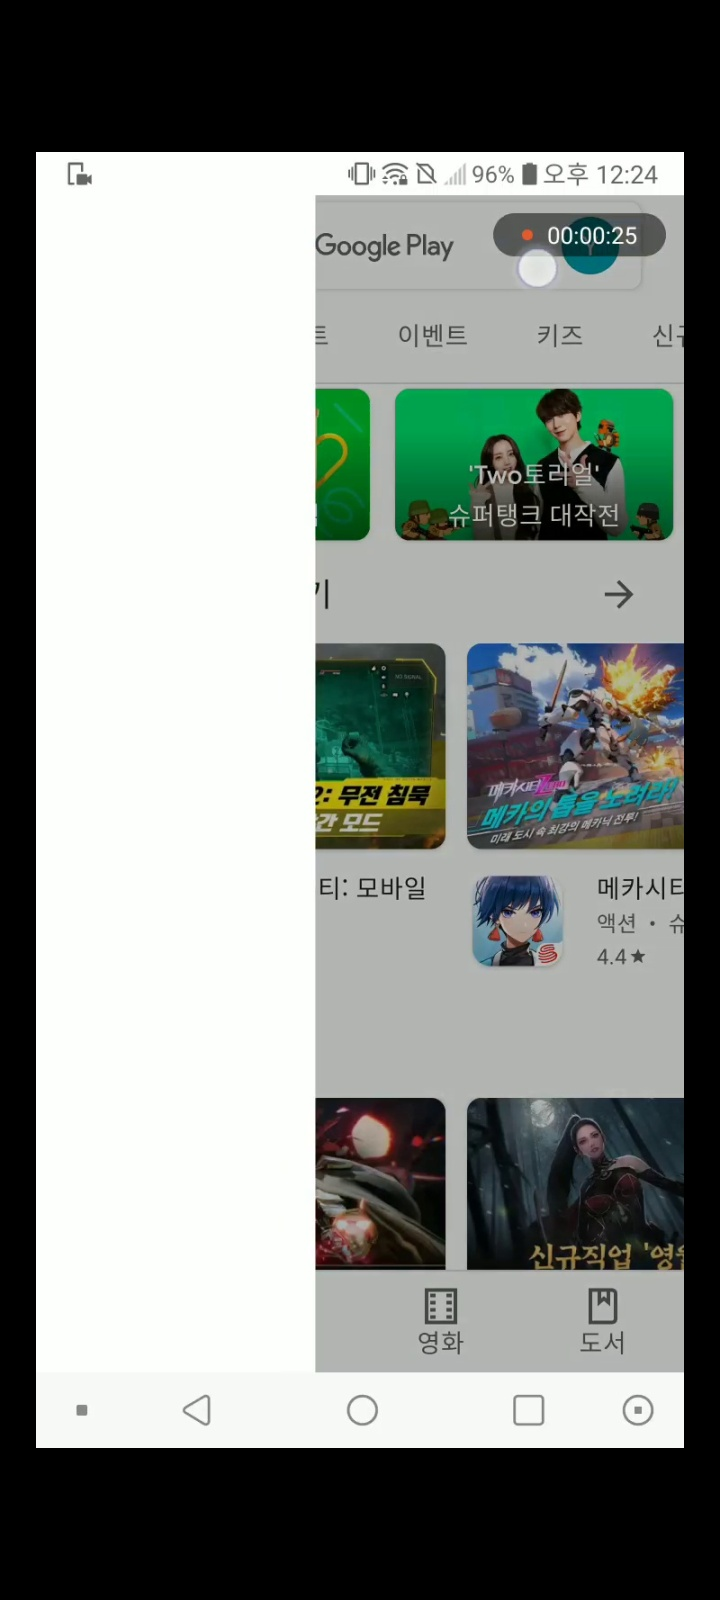Cursor: (515, 246, 560, 291)
